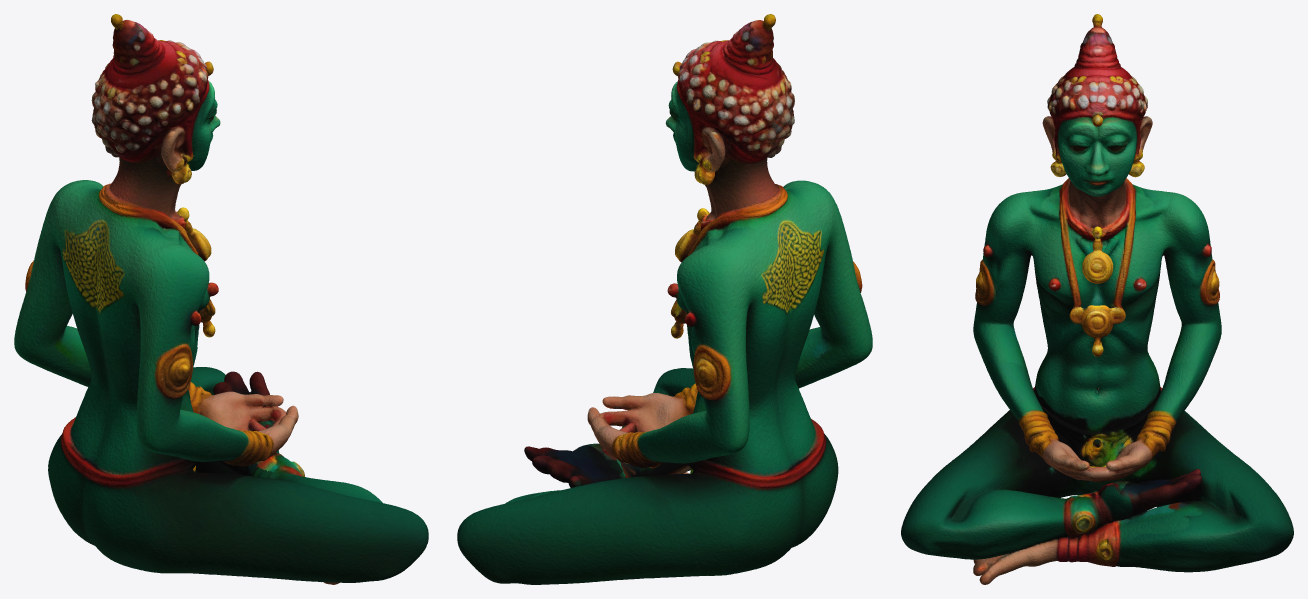
File: modelo9.glb
3 views of the same model, side by side, from view 1: azimuth 30°, elevation 25°; view 2: azimuth 150°, elevation 25°; view 3: azimuth 270°, elevation 25° (orthographic). The views are drawn at different scales.
Parts seen in each view (by area): view 1: tripo_node_257945e8-6aa1-4ed6-a0b7-36e801d04e43; view 2: tripo_node_257945e8-6aa1-4ed6-a0b7-36e801d04e43; view 3: tripo_node_257945e8-6aa1-4ed6-a0b7-36e801d04e43.
Part boxes in pixels (x1=…): tripo_node_257945e8-6aa1-4ed6-a0b7-36e801d04e43: x1=14, y1=14, x2=428, y2=584; tripo_node_257945e8-6aa1-4ed6-a0b7-36e801d04e43: x1=457, y1=14, x2=872, y2=584; tripo_node_257945e8-6aa1-4ed6-a0b7-36e801d04e43: x1=901, y1=14, x2=1293, y2=584.
Bounding box in the file's own units: 0.4617 × 1 × 0.7289.
1 material, 1 textured.
